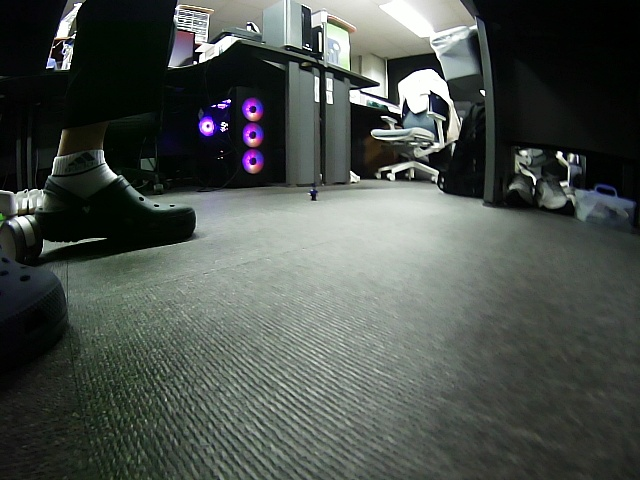person: (308, 186, 318, 202)
